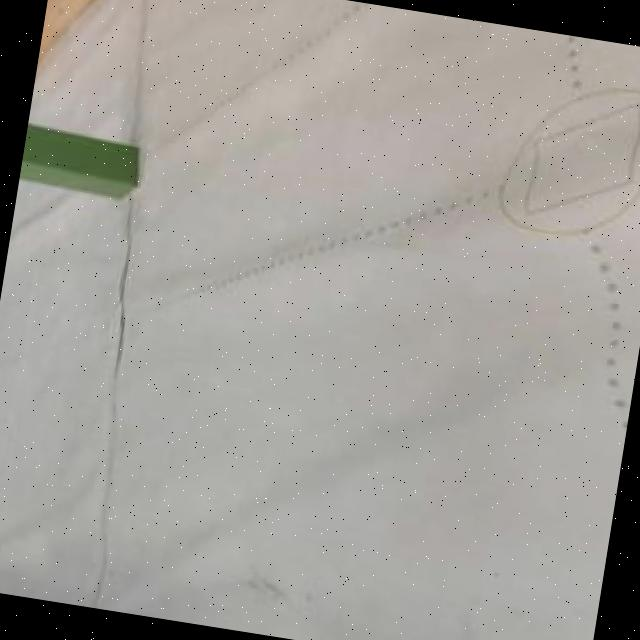greenbox: (17, 120, 144, 208)
